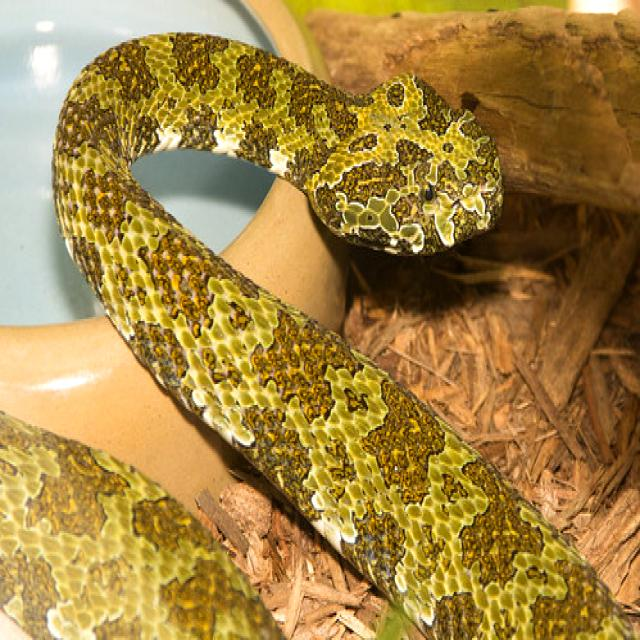Ovophis monticola: (53, 35, 633, 638)
snake: (53, 35, 633, 638)
